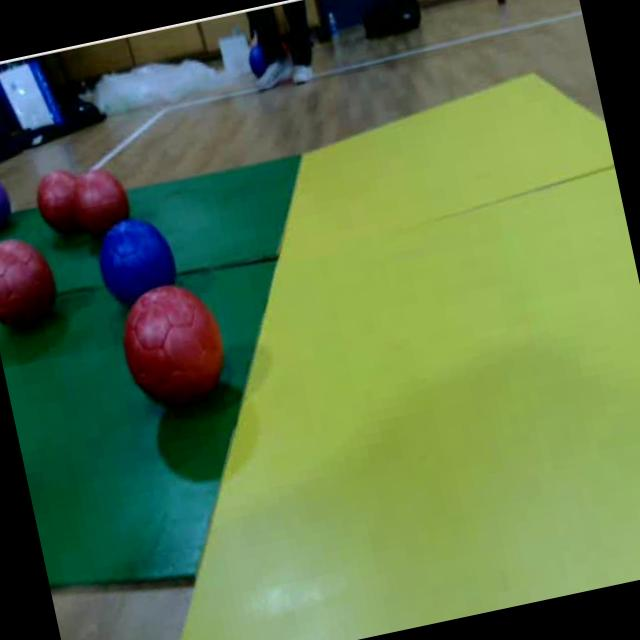blue_ball: (90, 210, 181, 300)
purple_ball: (0, 163, 21, 241)
red_ball: (113, 277, 240, 424), (0, 227, 64, 344), (65, 160, 133, 230), (31, 166, 85, 238)
